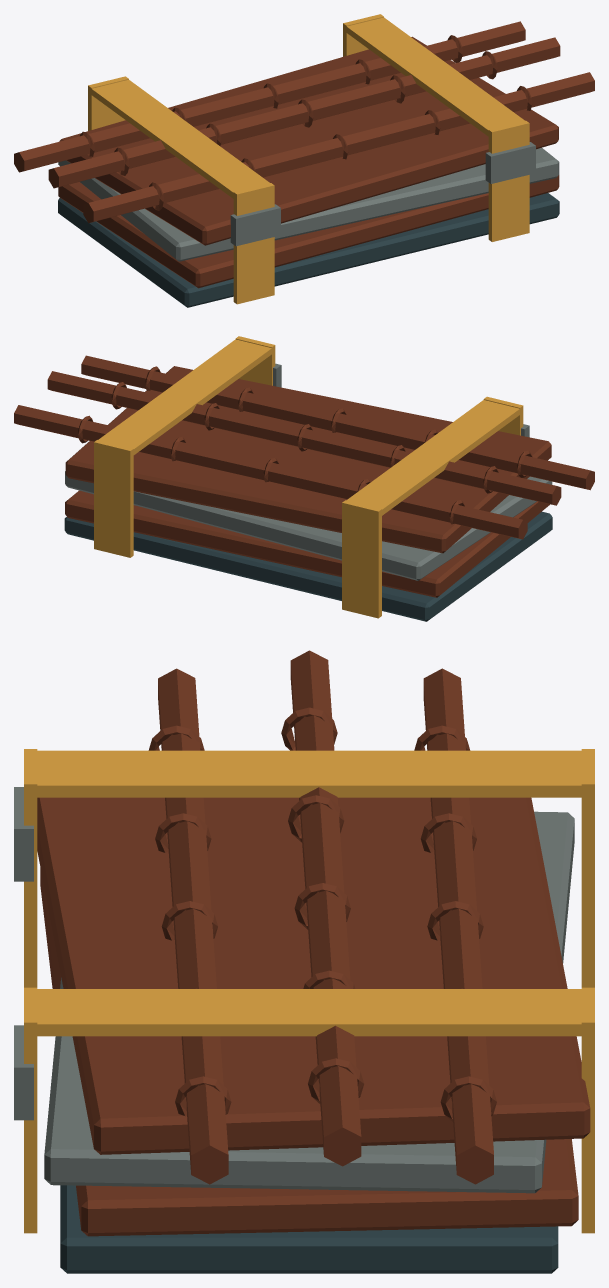
Rendered from scrap-bundle.glb.
The picture shows the model from 3 angles, top to bottom: view 1: azimuth 30°, elevation 25°; view 2: azimuth 150°, elevation 25°; view 3: azimuth 270°, elevation 25°; orthographic projection. The views are drawn at different scales.
Visible parts, largest first — view 1: scrap-bundle__scrap-bundle__rust, scrap-bundle__scrap-bundle__amber, scrap-bundle__scrap-bundle__hardware, scrap-bundle__scrap-bundle__steel; view 2: scrap-bundle__scrap-bundle__rust, scrap-bundle__scrap-bundle__amber, scrap-bundle__scrap-bundle__steel, scrap-bundle__scrap-bundle__hardware; view 3: scrap-bundle__scrap-bundle__rust, scrap-bundle__scrap-bundle__amber, scrap-bundle__scrap-bundle__hardware, scrap-bundle__scrap-bundle__steel.
Boxes of the visible parts, x1,y1,x2,y2 form: scrap-bundle__scrap-bundle__rust: (14,21,594,288); scrap-bundle__scrap-bundle__amber: (88,14,529,304); scrap-bundle__scrap-bundle__hardware: (58,142,559,261); scrap-bundle__scrap-bundle__steel: (58,193,559,307); scrap-bundle__scrap-bundle__rust: (14,355,594,597); scrap-bundle__scrap-bundle__amber: (94,336,523,618); scrap-bundle__scrap-bundle__steel: (64,511,552,621); scrap-bundle__scrap-bundle__hardware: (65,363,552,580); scrap-bundle__scrap-bundle__rust: (37,650,590,1236); scrap-bundle__scrap-bundle__amber: (24,749,594,1233); scrap-bundle__scrap-bundle__hardware: (14,787,574,1193); scrap-bundle__scrap-bundle__steel: (60,1185,558,1273).
Size of the model in its own units: 0.6807 by 0.145 by 0.35.
